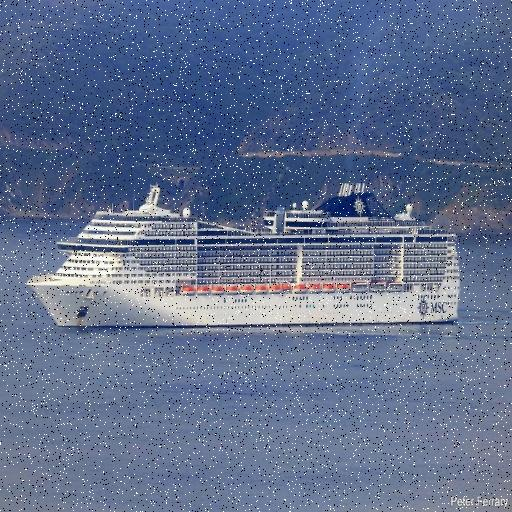cruises: (23, 179, 465, 332)
